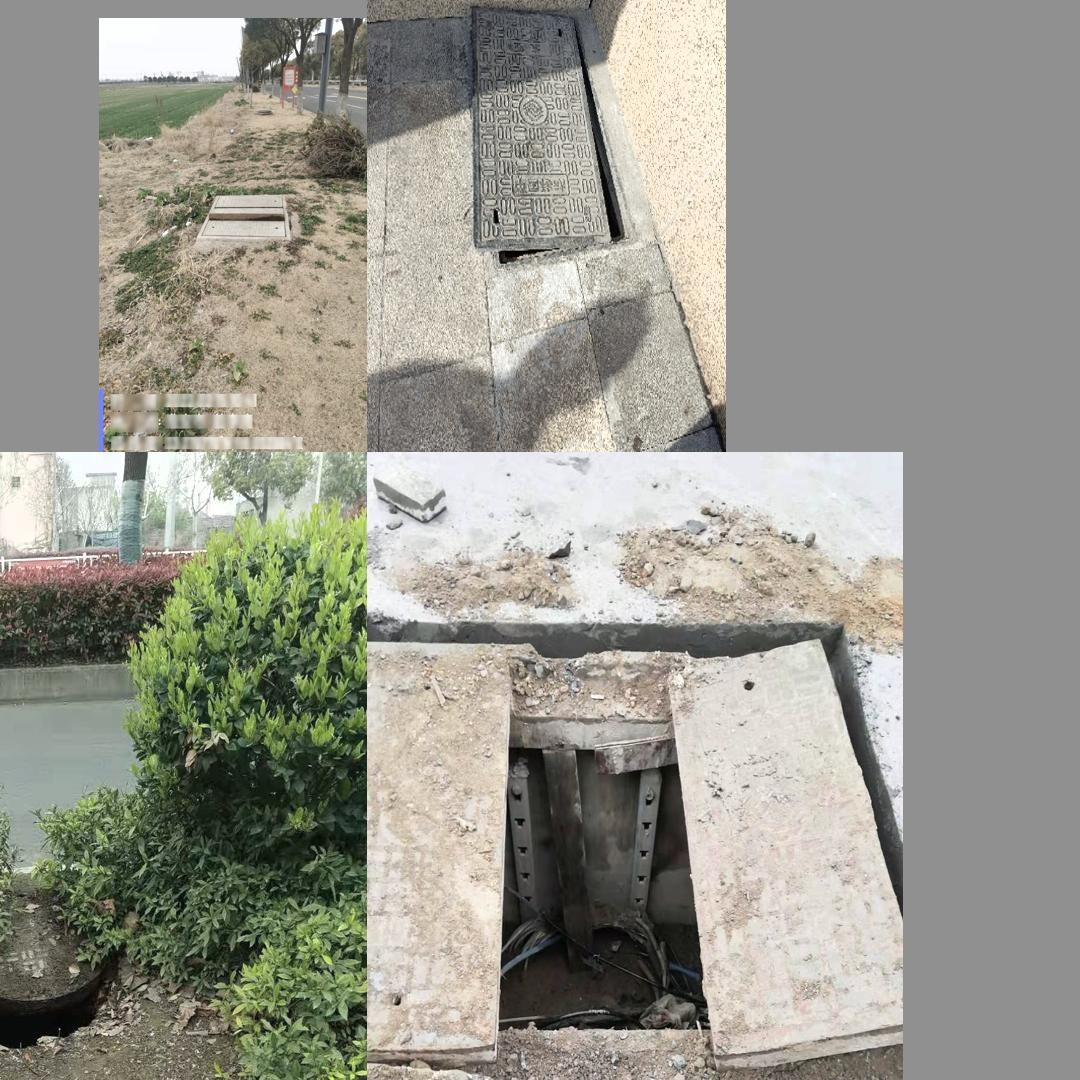uncovered: (367, 611, 902, 1080), (473, 2, 636, 268), (0, 901, 120, 1054), (198, 193, 290, 241)
